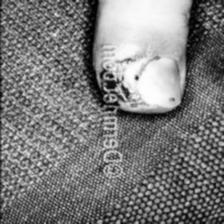Toxin: (100, 43, 153, 111)
